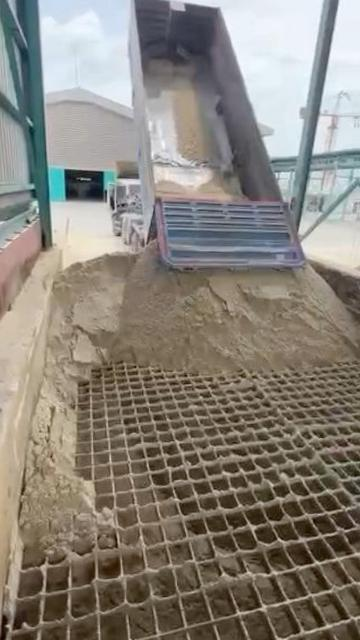sand: (21, 244, 357, 562), (173, 74, 212, 162), (157, 171, 244, 200)
